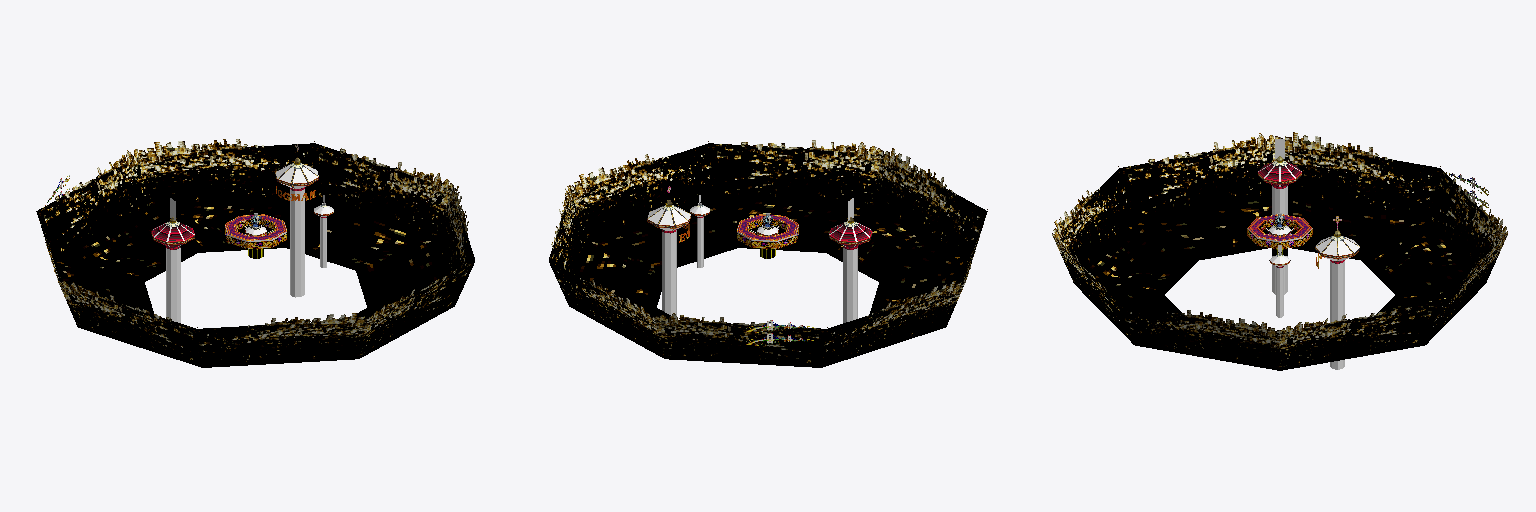
3 renders of one model, left to right at view 1: azimuth 30°, elevation 25°; view 2: azimuth 150°, elevation 25°; view 3: azimuth 270°, elevation 25°, orthographic.
Parts seen in each view (by area): view 1: polygon13, polygon20, polygon8, polygon15, polygon22, polygon27; view 2: polygon13, polygon20, polygon8, polygon15, polygon22, polygon27; view 3: polygon13, polygon20, polygon8, polygon15, polygon27, polygon22.
Boxes of the visible parts, x1=… form: polygon13: x1=36, y1=139, x2=474, y2=367; polygon20: x1=166, y1=189, x2=326, y2=322; polygon8: x1=225, y1=214, x2=286, y2=240; polygon15: x1=225, y1=221, x2=286, y2=248; polygon22: x1=152, y1=223, x2=194, y2=246; polygon27: x1=276, y1=164, x2=318, y2=188; polygon13: x1=549, y1=140, x2=987, y2=367; polygon20: x1=662, y1=217, x2=857, y2=322; polygon8: x1=737, y1=214, x2=798, y2=240; polygon15: x1=737, y1=221, x2=798, y2=248; polygon22: x1=829, y1=223, x2=871, y2=246; polygon27: x1=648, y1=207, x2=690, y2=230; polygon13: x1=1052, y1=132, x2=1507, y2=370; polygon20: x1=1272, y1=186, x2=1344, y2=369; polygon8: x1=1248, y1=214, x2=1311, y2=240; polygon15: x1=1247, y1=221, x2=1312, y2=248; polygon27: x1=1316, y1=237, x2=1359, y2=260; polygon22: x1=1258, y1=162, x2=1301, y2=186.
Bounding box in the file's own units: 12.07 × 4.38 × 12.07.
33 materials, 19 textured.